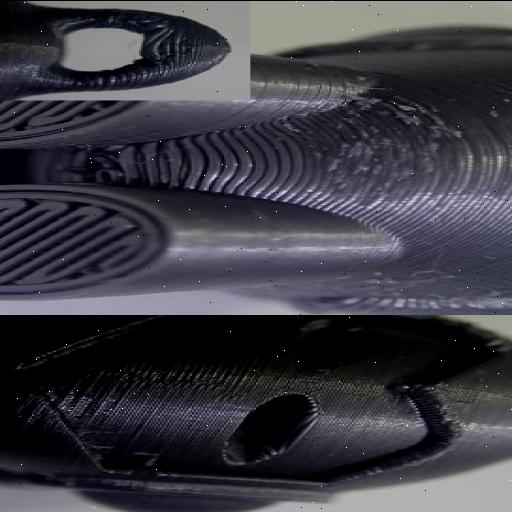cracks: (7, 364, 113, 438), (44, 141, 140, 184), (132, 23, 216, 63)
